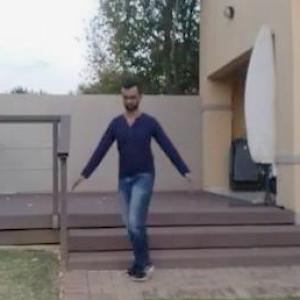land: (85, 86, 208, 288)
